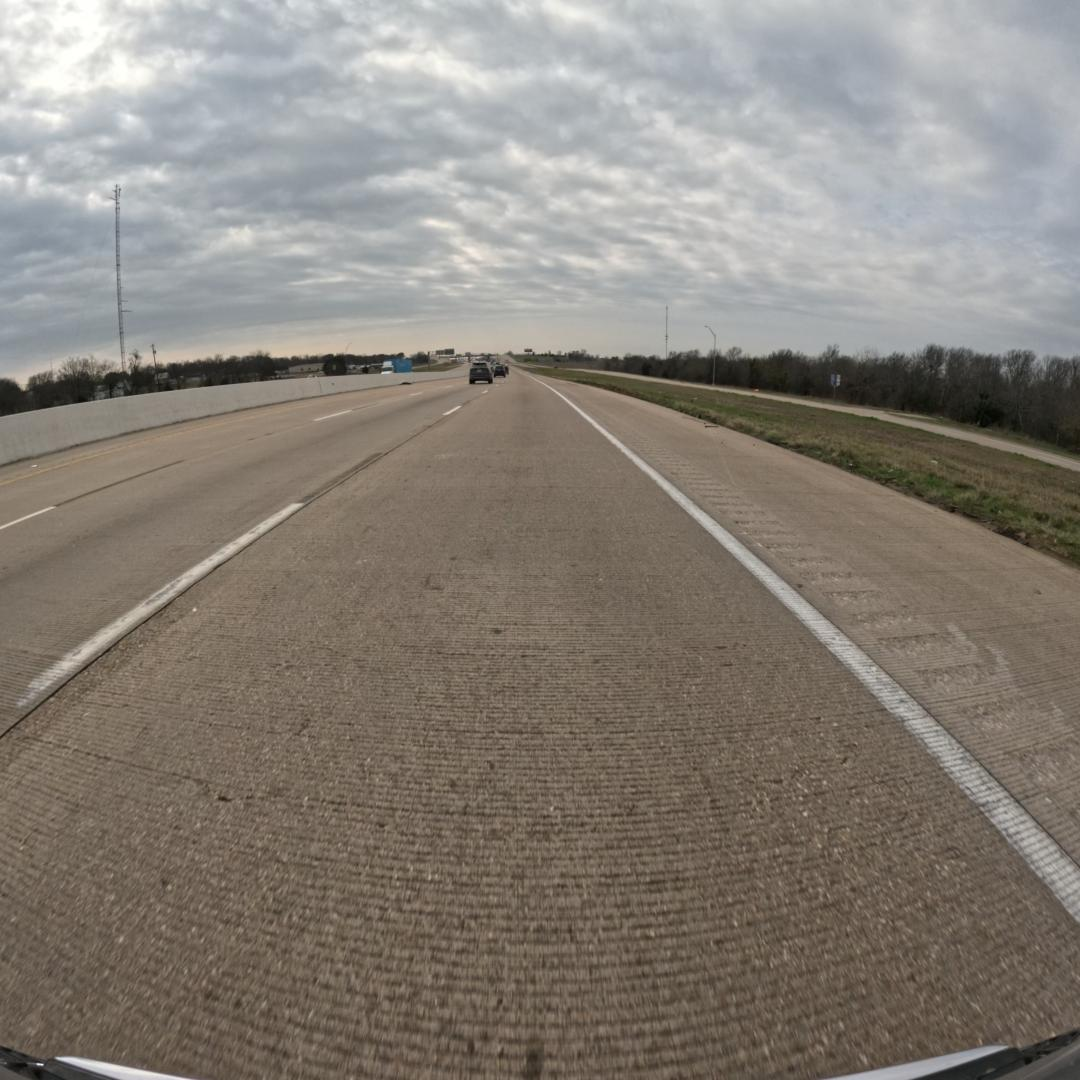lane0: (0, 374, 1080, 1076)
lane1: (0, 384, 487, 735)
